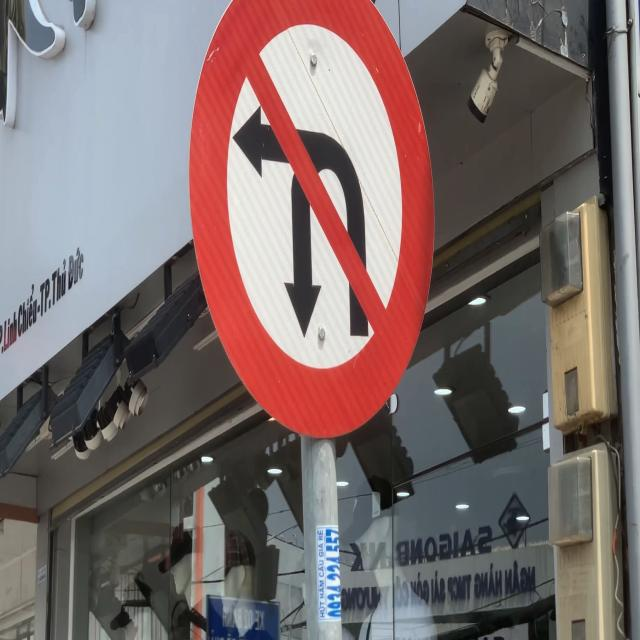Cam con lai: (185, 0, 438, 445)
